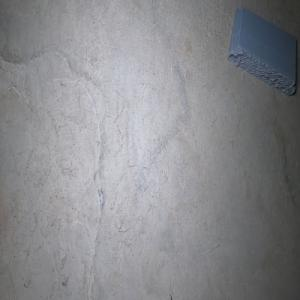PlasticPart: (227, 6, 296, 96)
